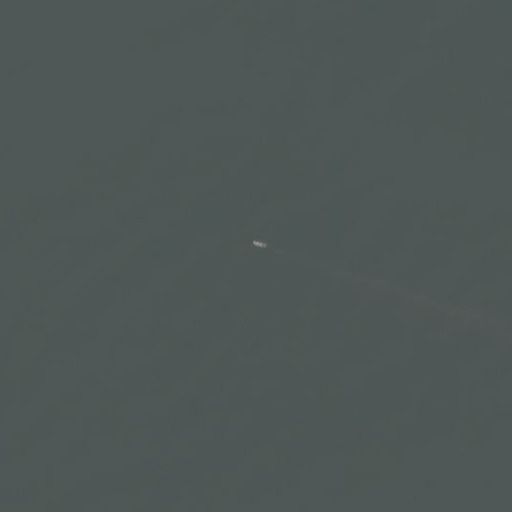ship: (248, 238, 272, 251)
